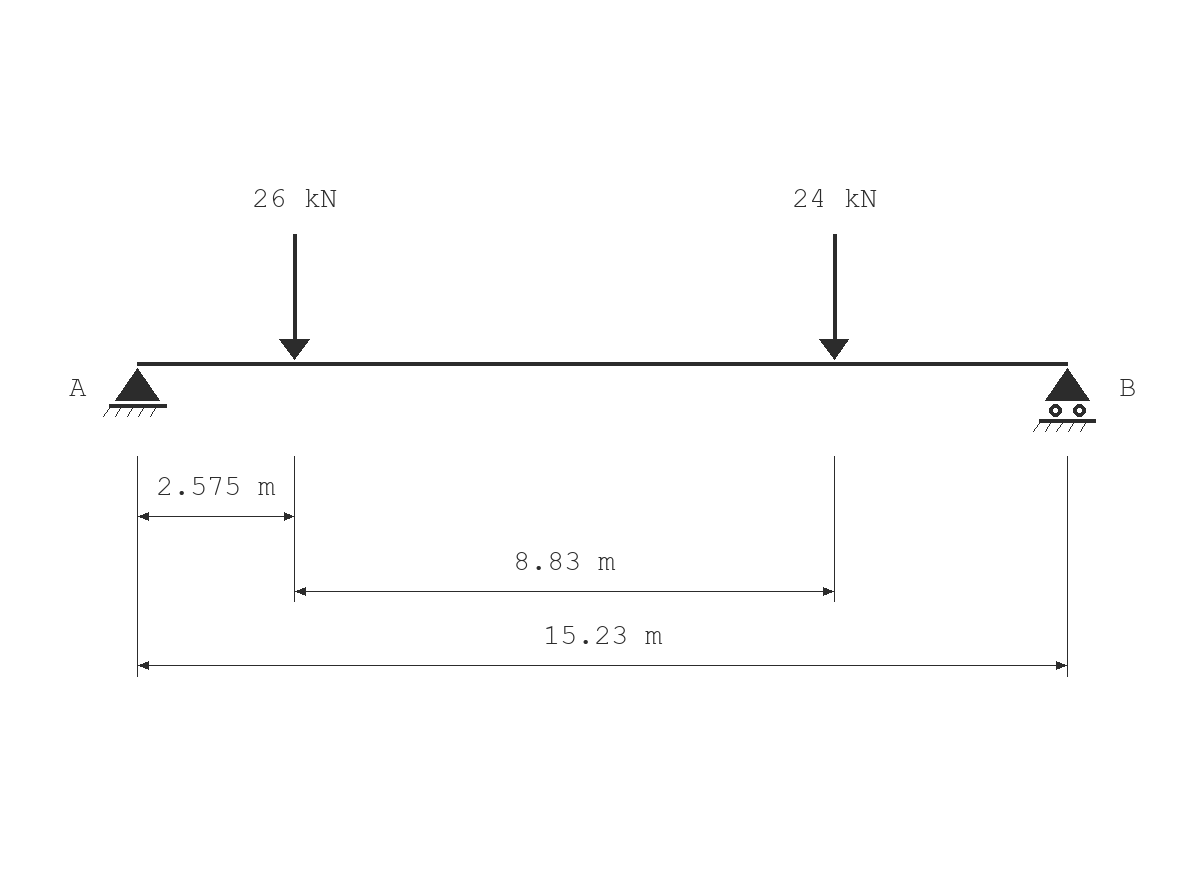pin_support: (103, 368, 167, 417)
point_load: (279, 234, 310, 360), (819, 234, 849, 360)
roller_support: (1033, 368, 1096, 432)
